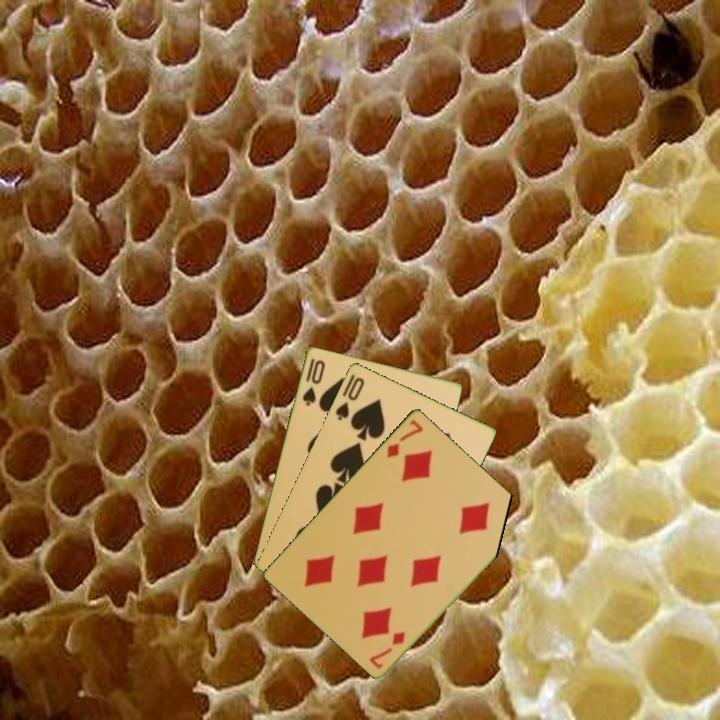10s: (332, 373, 367, 423), (299, 354, 328, 408)
7d: (383, 416, 426, 460), (366, 627, 408, 672)
